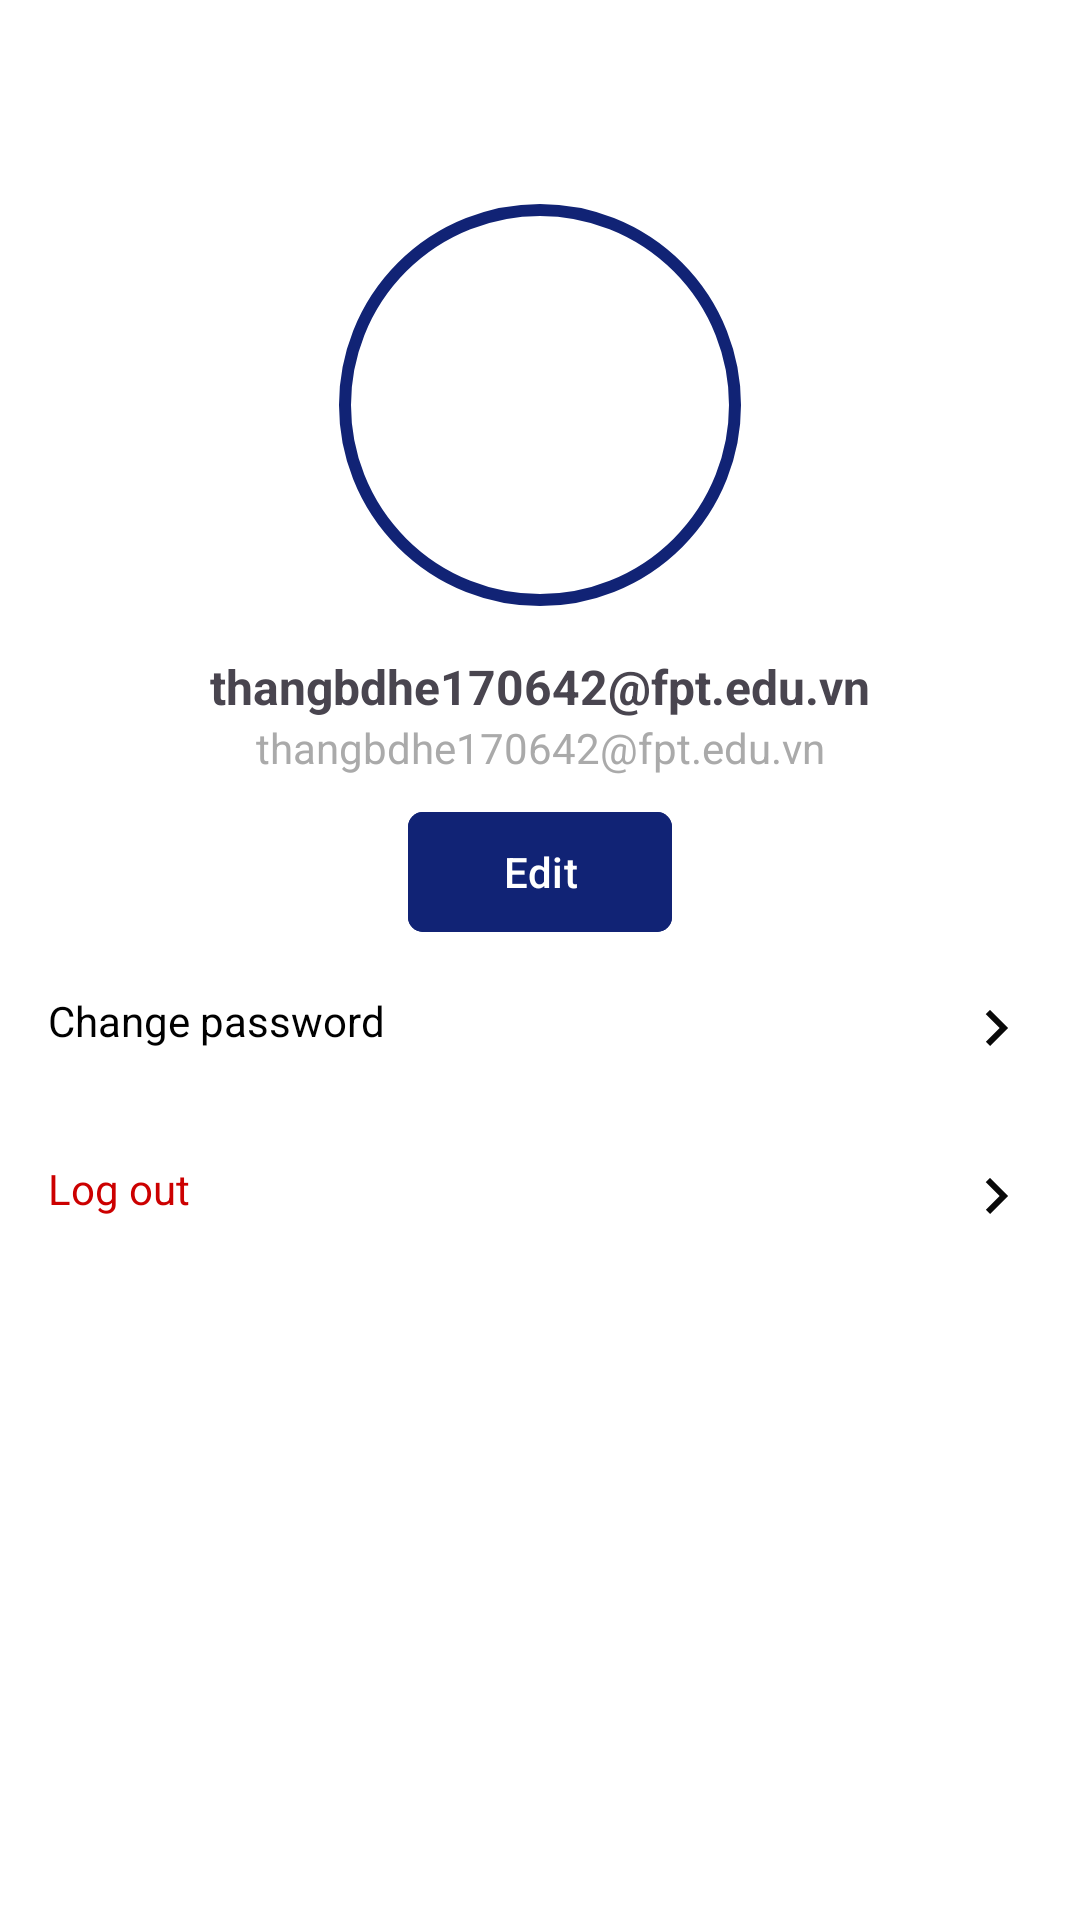

Screen size 1080 x 1920. Icon name, then its center in pixels as (x=x, y=y):
arrow right: (x=997, y=1028), (x=997, y=1196)
